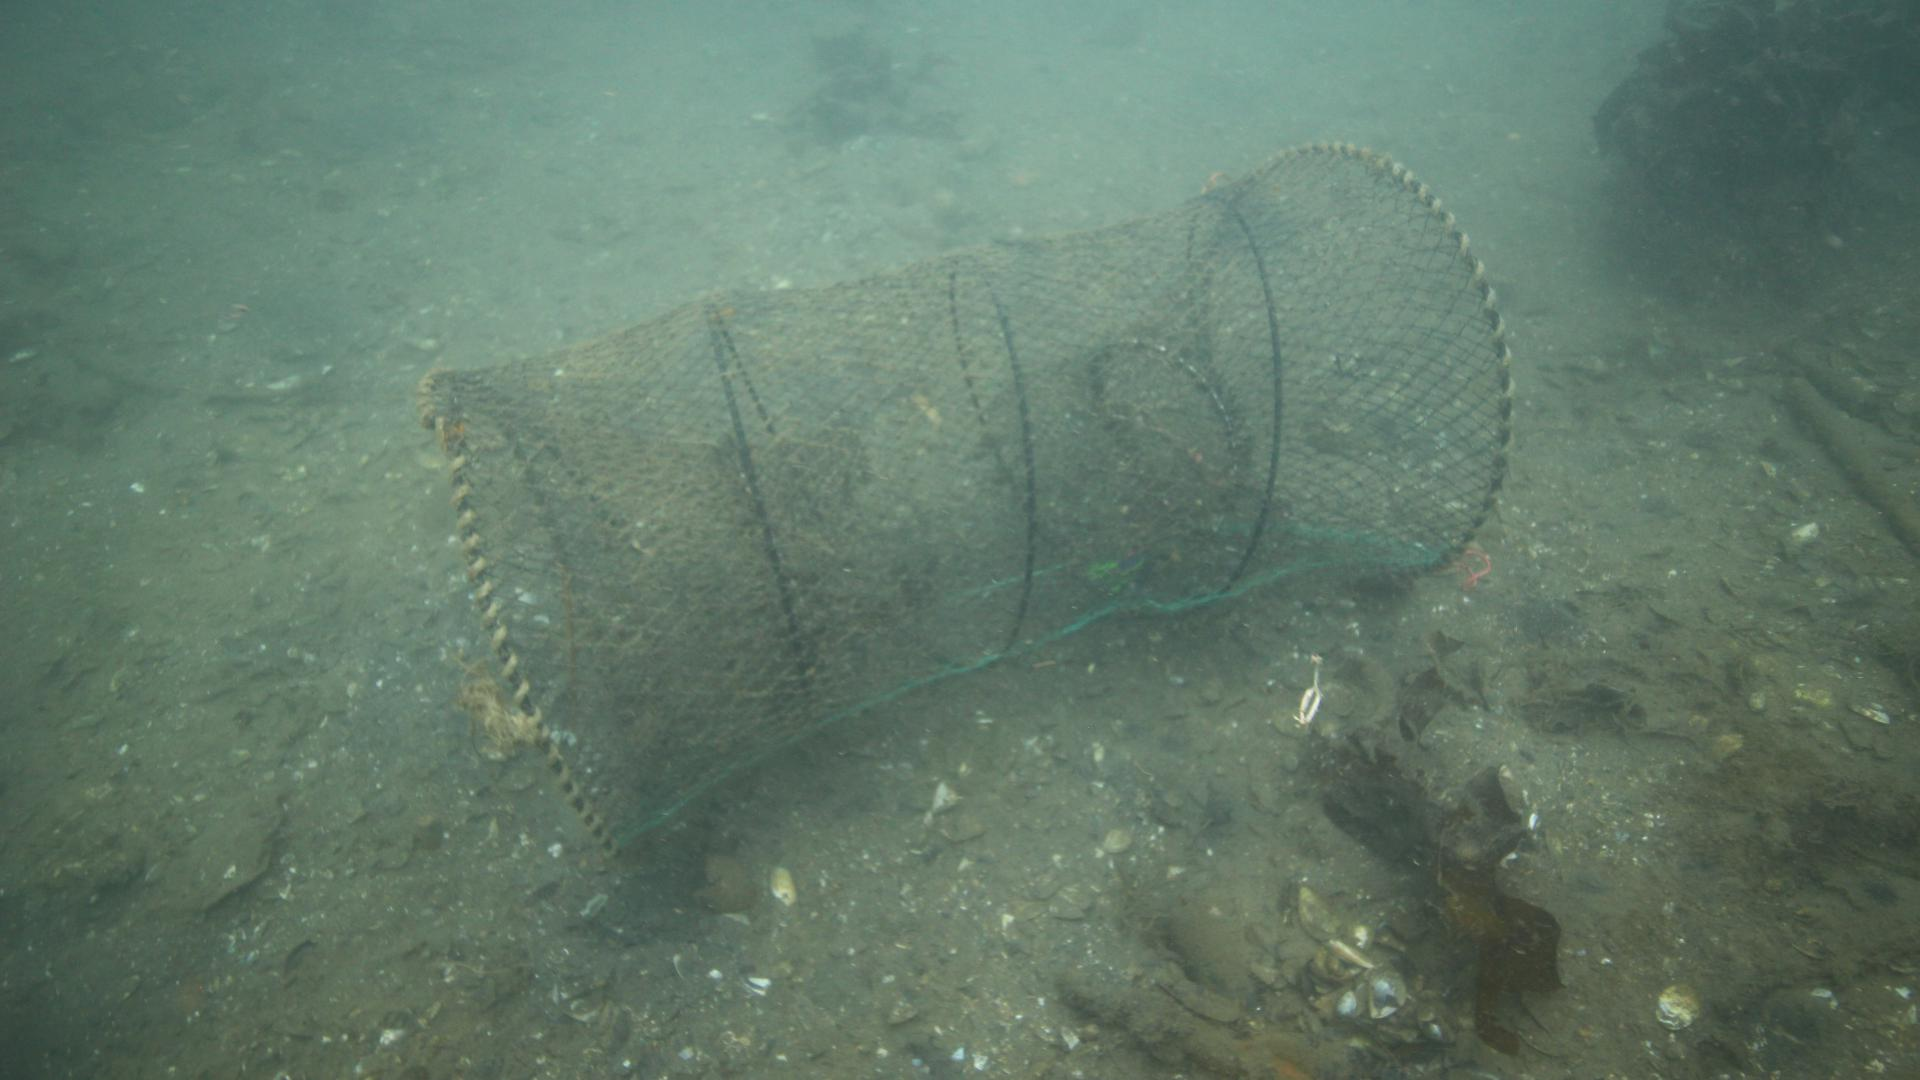spring fish trap: (417, 138, 1509, 855)
